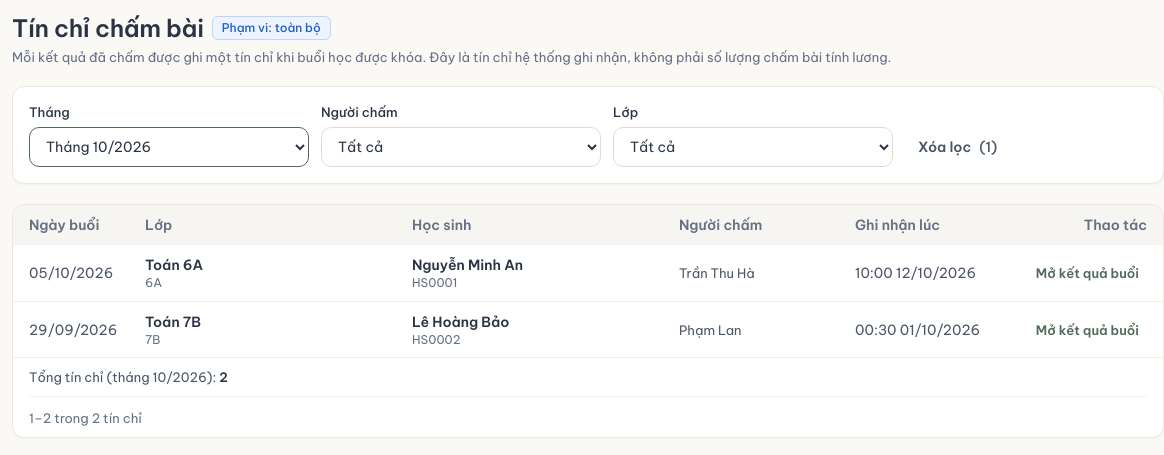
Test: GradingCreditListPage grader column and filter › narrows the rows to one grader and updates the total
The image size is (1164, 455).
Step 1. Select "Phạm Lan" in the dropdown with test id "desktop-credit-grader" → (461, 147), box [321,127,601,167]
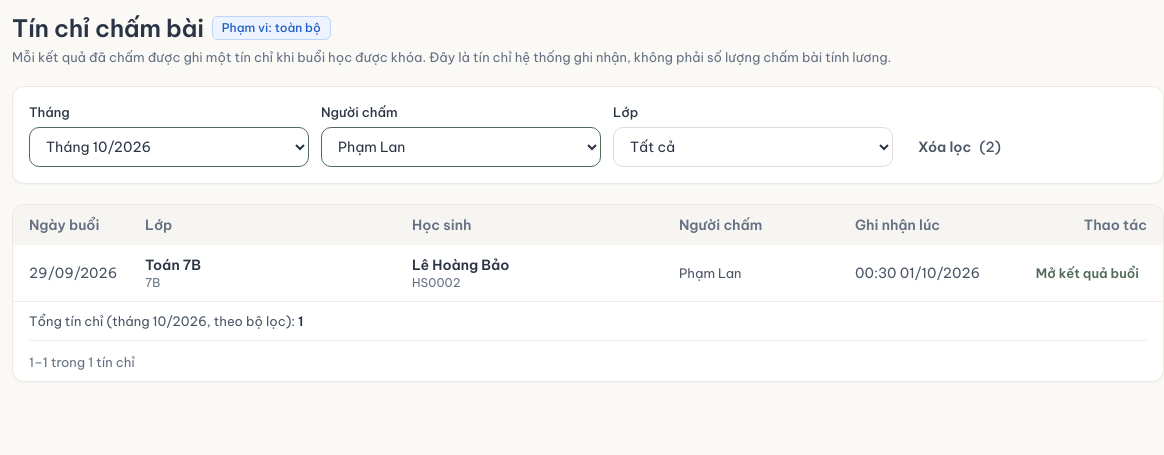
expect the row that starts with "Toán 7B" shows "Lê Hoàng Bảo": met, box [412,256,510,274]
expect the element with test id "grading-credit-total" reads "Tổng tín chỉ (tháng 10/2026, theo bộ lọc): 1": met, box [29,312,1147,341]
